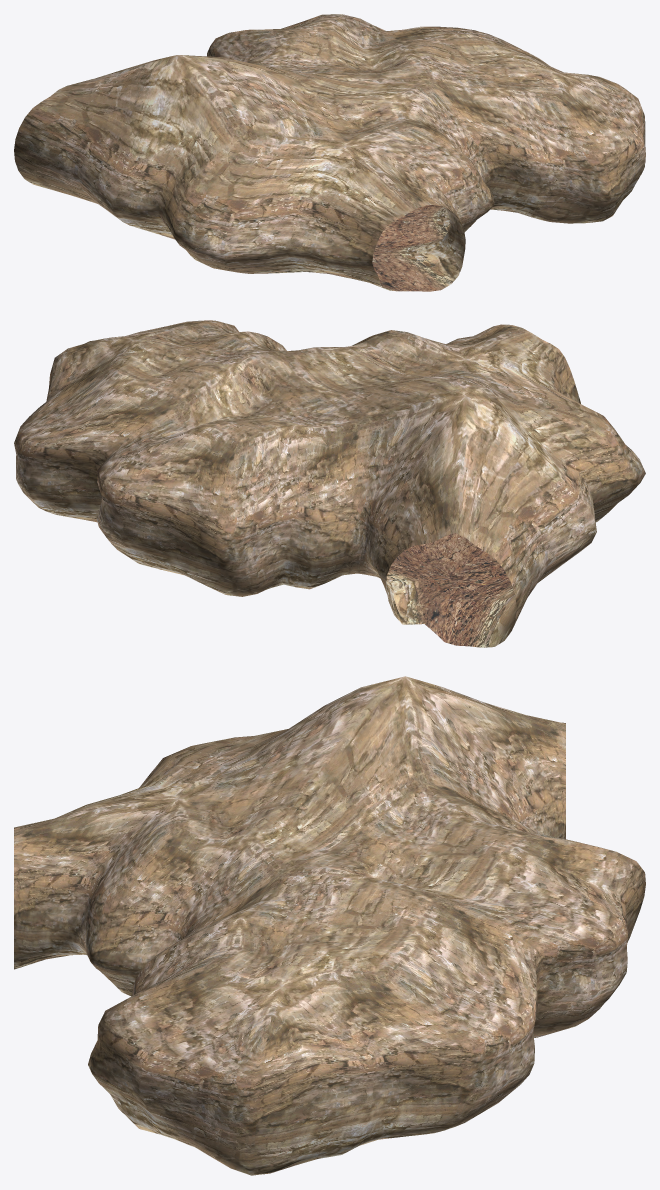
The model's file is thm_tato_cave_s01_r15_roomaa_mesh_r15.fbx.
3 renders of one model, top to bottom at view 1: azimuth 30°, elevation 25°; view 2: azimuth 150°, elevation 25°; view 3: azimuth 270°, elevation 25°, orthographic. The views are drawn at different scales.
Parts seen in each view (by area): view 1: mesh_node; view 2: mesh_node; view 3: mesh_node.
Boxes of the visible parts, x1,y1,x2,y2 form: mesh_node: [14, 14, 645, 291]; mesh_node: [14, 320, 645, 647]; mesh_node: [14, 676, 645, 1175].
Size of the model in its own units: 58.23 by 19.95 by 46.02.
